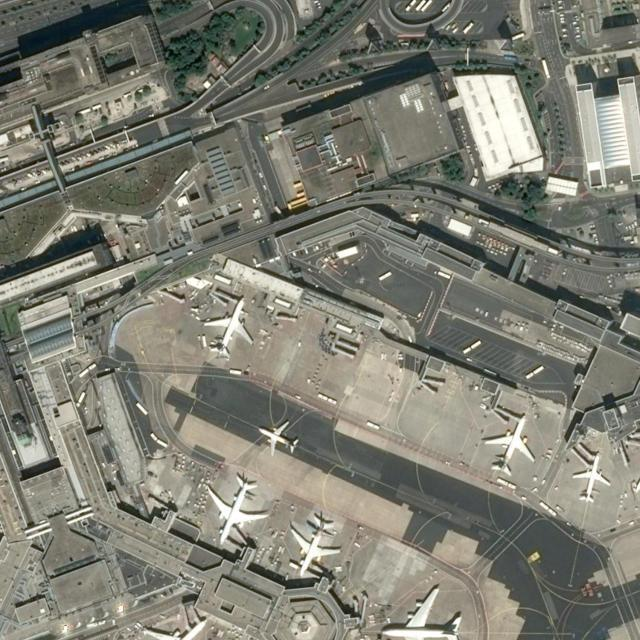Aircraft: (380, 586, 463, 640), (206, 474, 269, 543), (483, 412, 535, 474), (202, 295, 253, 358), (289, 513, 340, 575), (137, 609, 206, 640), (572, 450, 611, 502), (259, 418, 296, 454)
